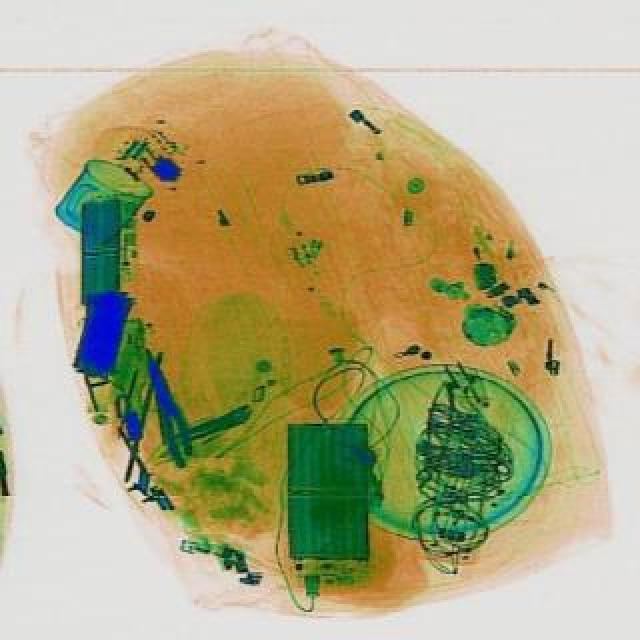wrench: (130, 342, 200, 470)
